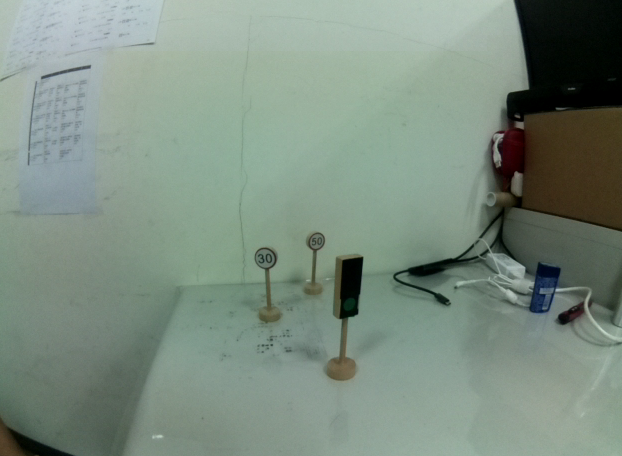Green: (329, 253, 365, 322)
Speed30: (251, 247, 283, 269)
Speed50: (305, 230, 329, 250)
